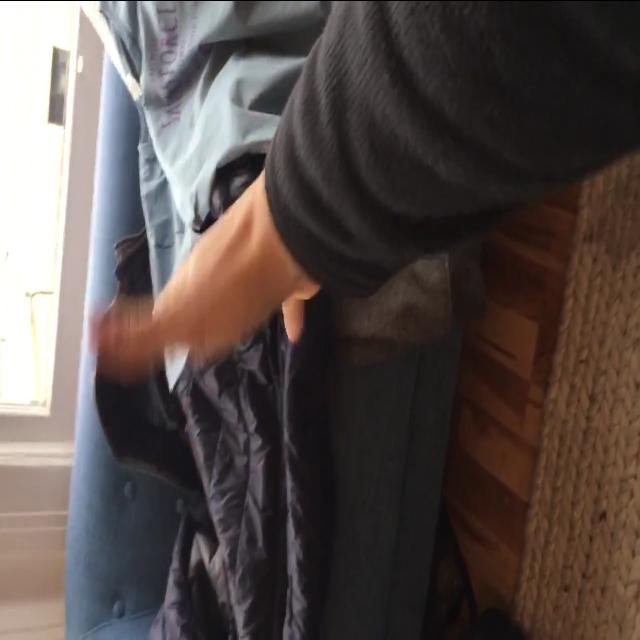Paper: (89, 183, 319, 375)
